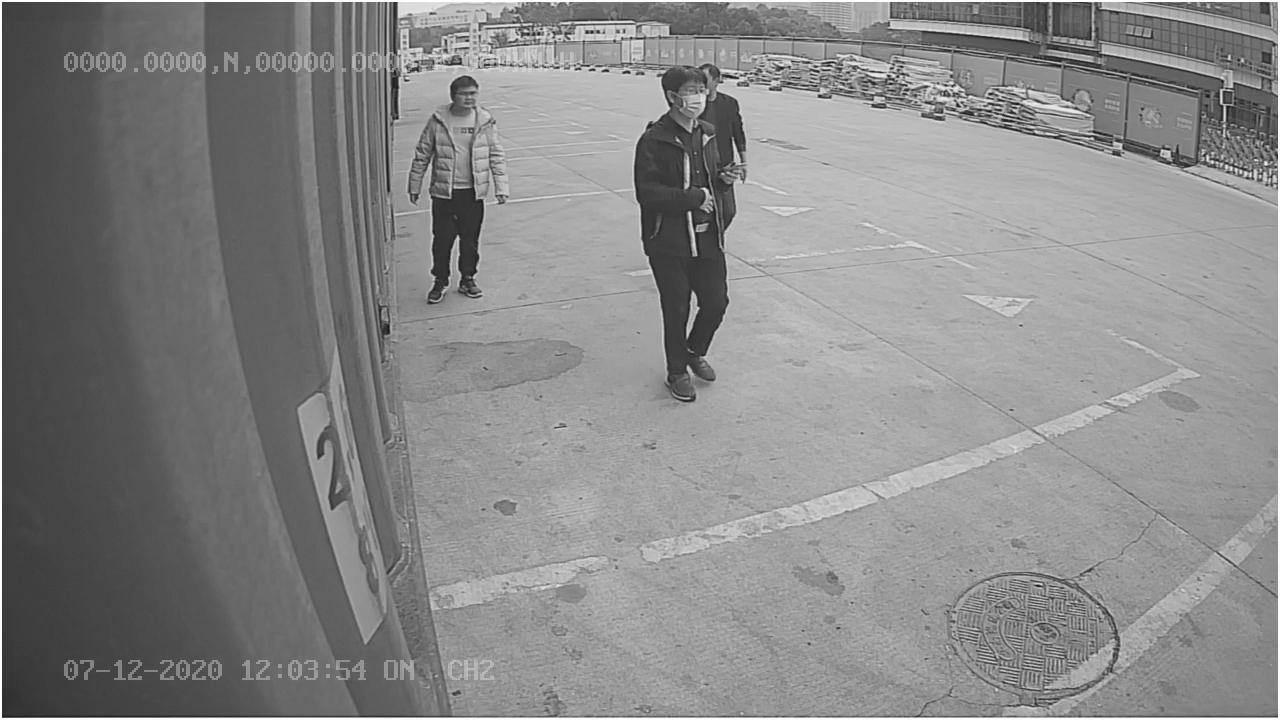person: (409, 73, 512, 306)
